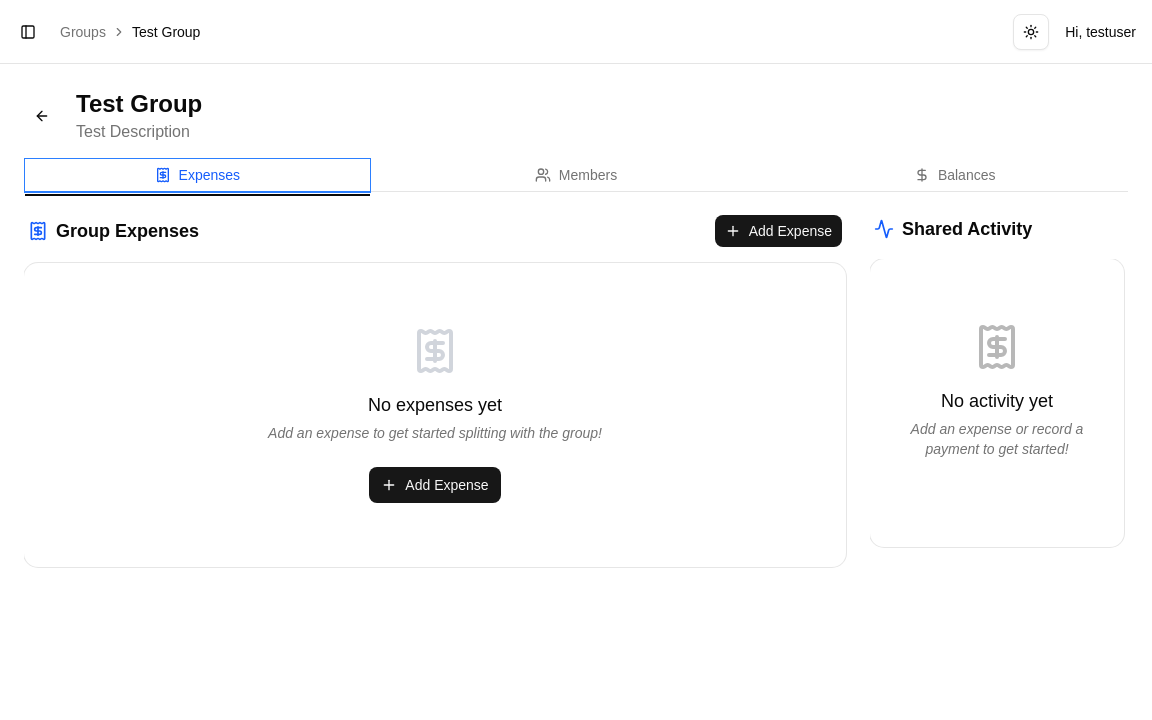
Scenario: GroupDetails › renders Temp Friend badge for non-friends
The image size is (1152, 720).
Expected: the link "Test Group" is shown, [132, 22, 200, 42]
What coordinates should you click on to do the following:
click the tab "Members"
I would click on:
 (576, 176)
Its box is [403, 158, 749, 193].
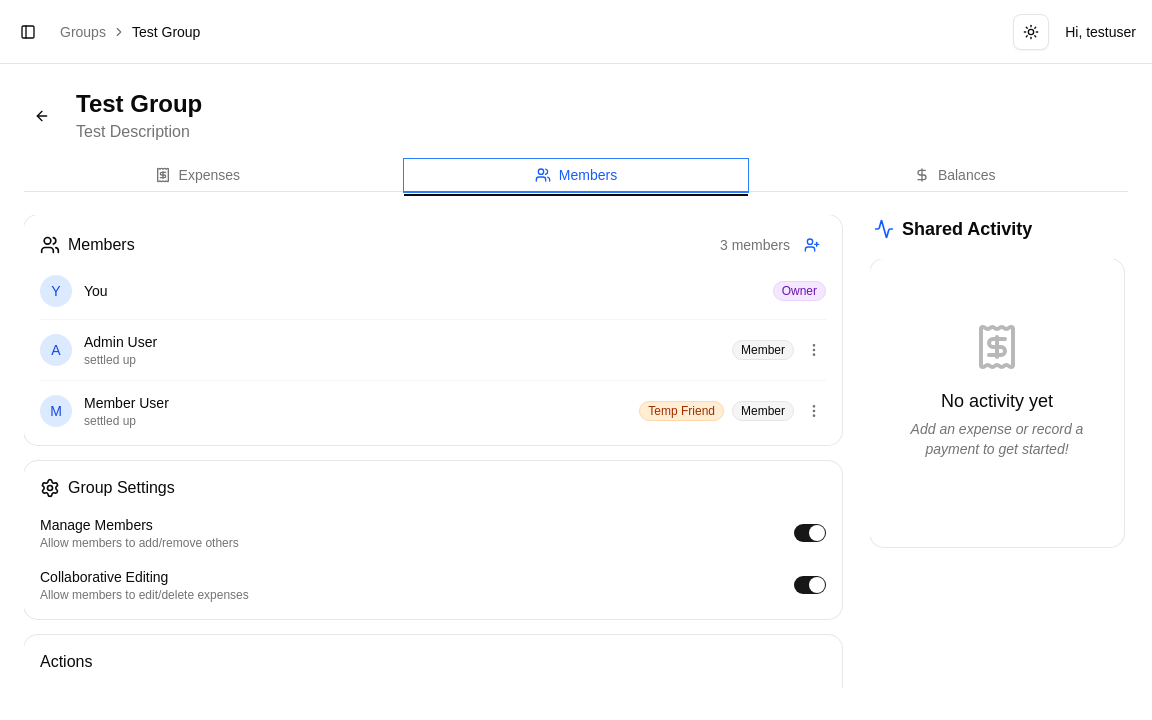
Result: the text "Member User" is shown at [84, 393, 169, 413]
Result: the text "Temp Friend" is shown at [639, 401, 724, 421]
